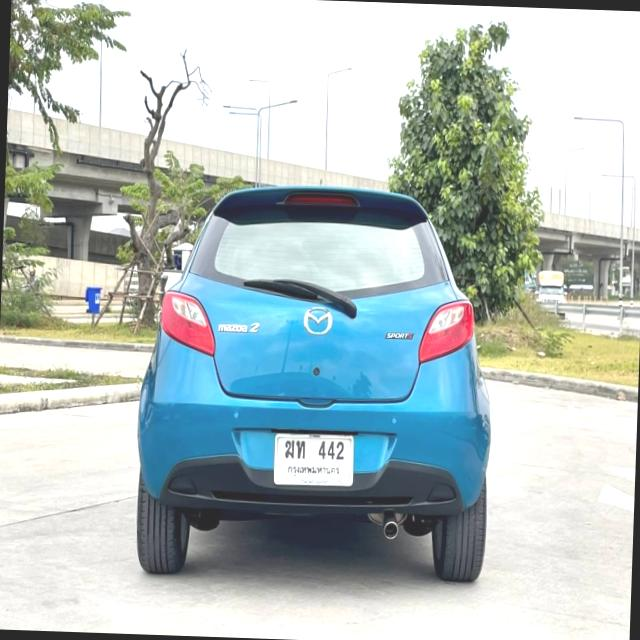license_plate: (270, 423, 360, 492)
